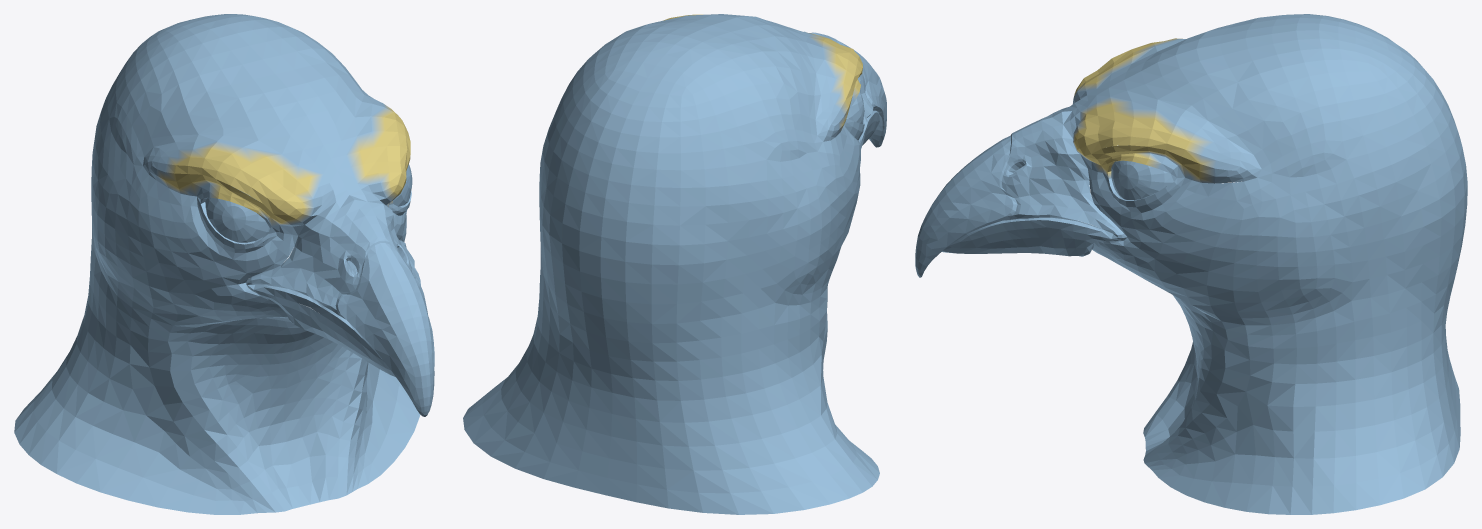
Rendered from raven_segmented.glb.
3 renders of one model, left to right at view 1: azimuth 30°, elevation 25°; view 2: azimuth 150°, elevation 25°; view 3: azimuth 270°, elevation 25°, orthographic.
Parts seen in each view (by area): view 1: head, beak, eye_R; view 2: head, beak; view 3: head, beak, eye_L.
Boxes of the visible parts, bbox=[...] form: head: bbox=[14, 14, 420, 514]; beak: bbox=[246, 199, 434, 416]; eye_R: bbox=[205, 190, 269, 242]; head: bbox=[463, 14, 879, 514]; beak: bbox=[806, 32, 886, 148]; head: bbox=[1062, 14, 1467, 514]; beak: bbox=[915, 109, 1127, 277]; eye_L: bbox=[1111, 145, 1173, 200].
Bounding box in the file's own units: 3.28 × 3.46 × 4.15.
